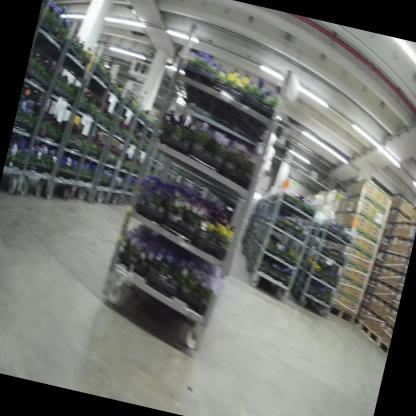pallet: (355, 319, 387, 355), (326, 299, 358, 325), (349, 312, 364, 332), (376, 338, 390, 357)
